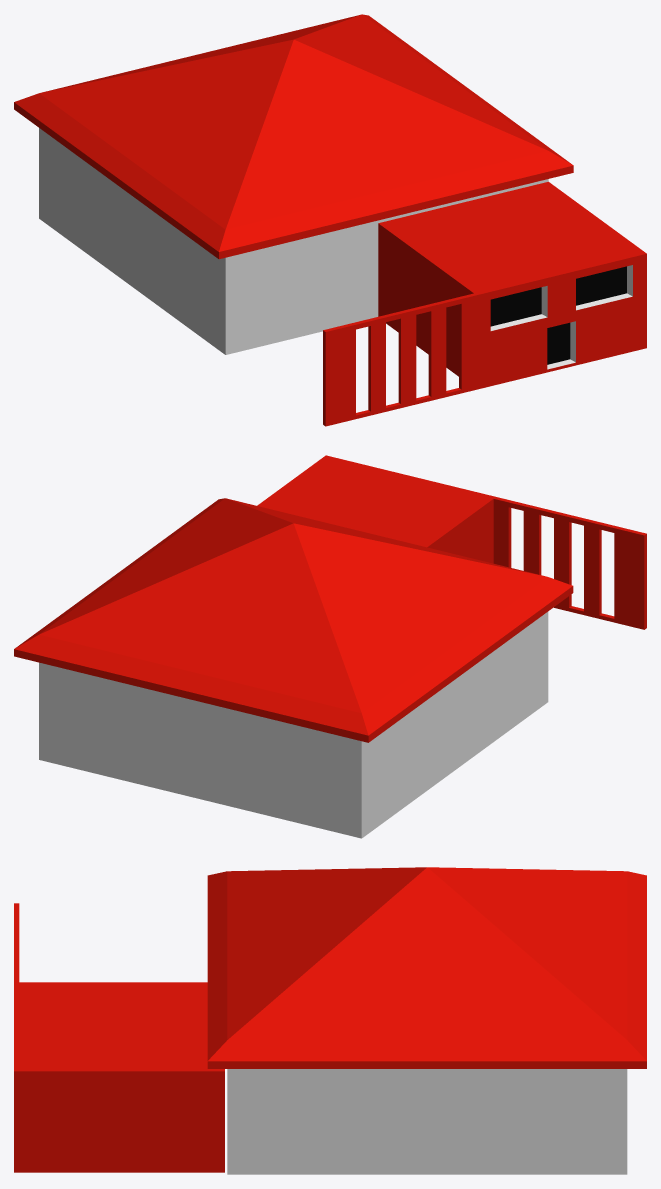
The model's file is casa_1.fbx.
The picture shows the model from 3 angles, top to bottom: view 1: azimuth 30°, elevation 25°; view 2: azimuth 150°, elevation 25°; view 3: azimuth 270°, elevation 25°; orthographic projection. The views are drawn at different scales.
Visible parts, largest first — view 1: Cube; view 2: Cube; view 3: Cube.
Boxes of the visible parts, x1,y1,x2,y2 form: Cube: [14, 14, 646, 426]; Cube: [14, 455, 646, 838]; Cube: [14, 867, 646, 1174].
Bounding box in the file's own units: 1266 × 709 × 1825.
